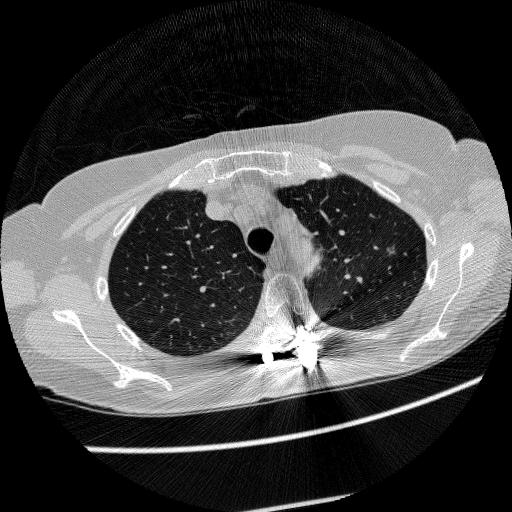nodule: (383, 242, 398, 257)
